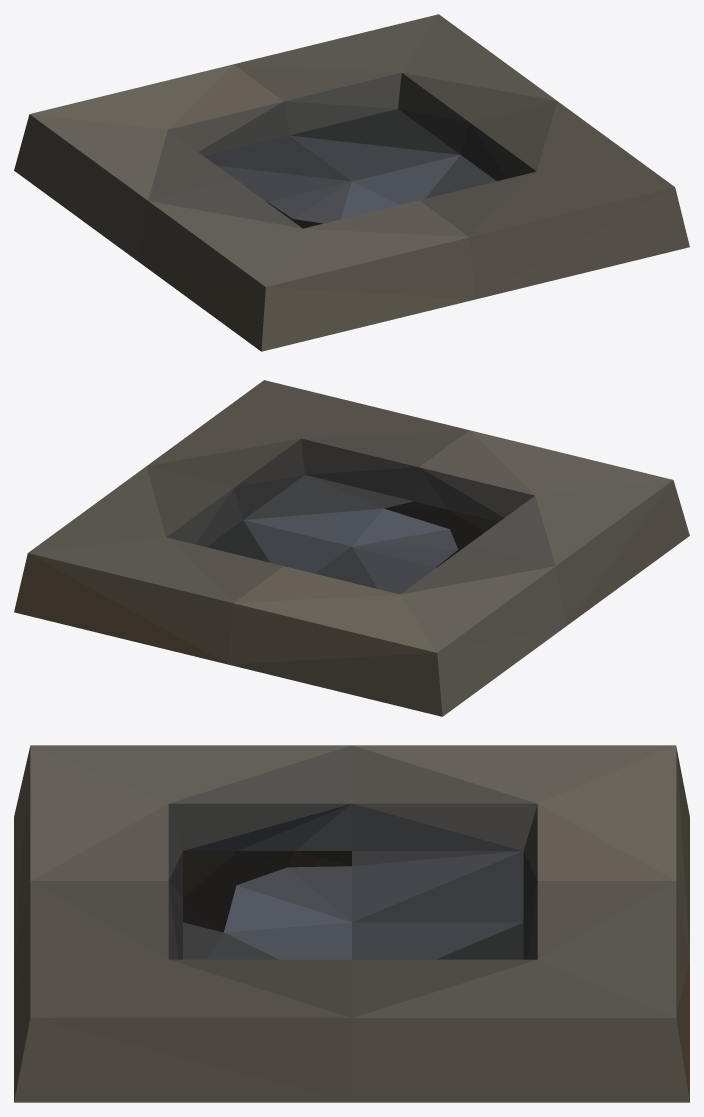
Rendered from floor_bordered_2m_2.fbx.
3 renders of one model, top to bottom at view 1: azimuth 30°, elevation 25°; view 2: azimuth 150°, elevation 25°; view 3: azimuth 270°, elevation 25°, orthographic. The views are drawn at different scales.
Visible parts, largest first — view 1: floor_bordered_2m_2; view 2: floor_bordered_2m_2; view 3: floor_bordered_2m_2.
Boxes of the visible parts, bbox=[...] form: floor_bordered_2m_2: bbox=[14, 14, 689, 351]; floor_bordered_2m_2: bbox=[14, 380, 689, 716]; floor_bordered_2m_2: bbox=[14, 745, 689, 1102].
Bounding box in the file's own units: 2 × 0.2573 × 2.
